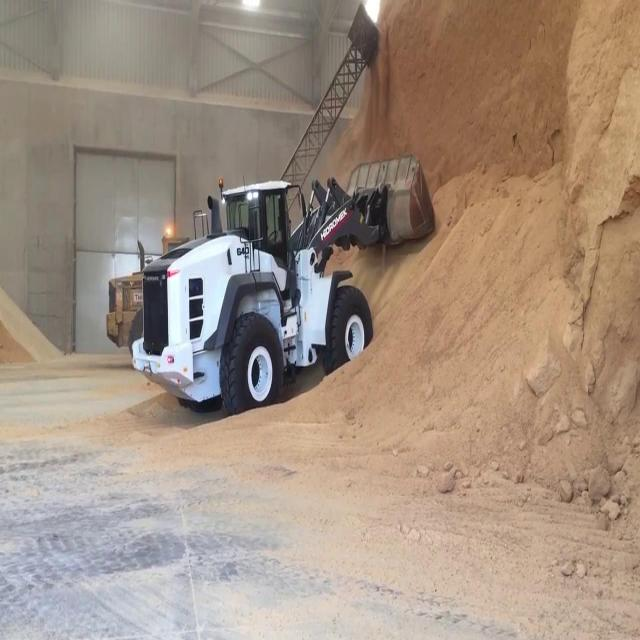buldozerpayloadergrader: (127, 127, 439, 425)
